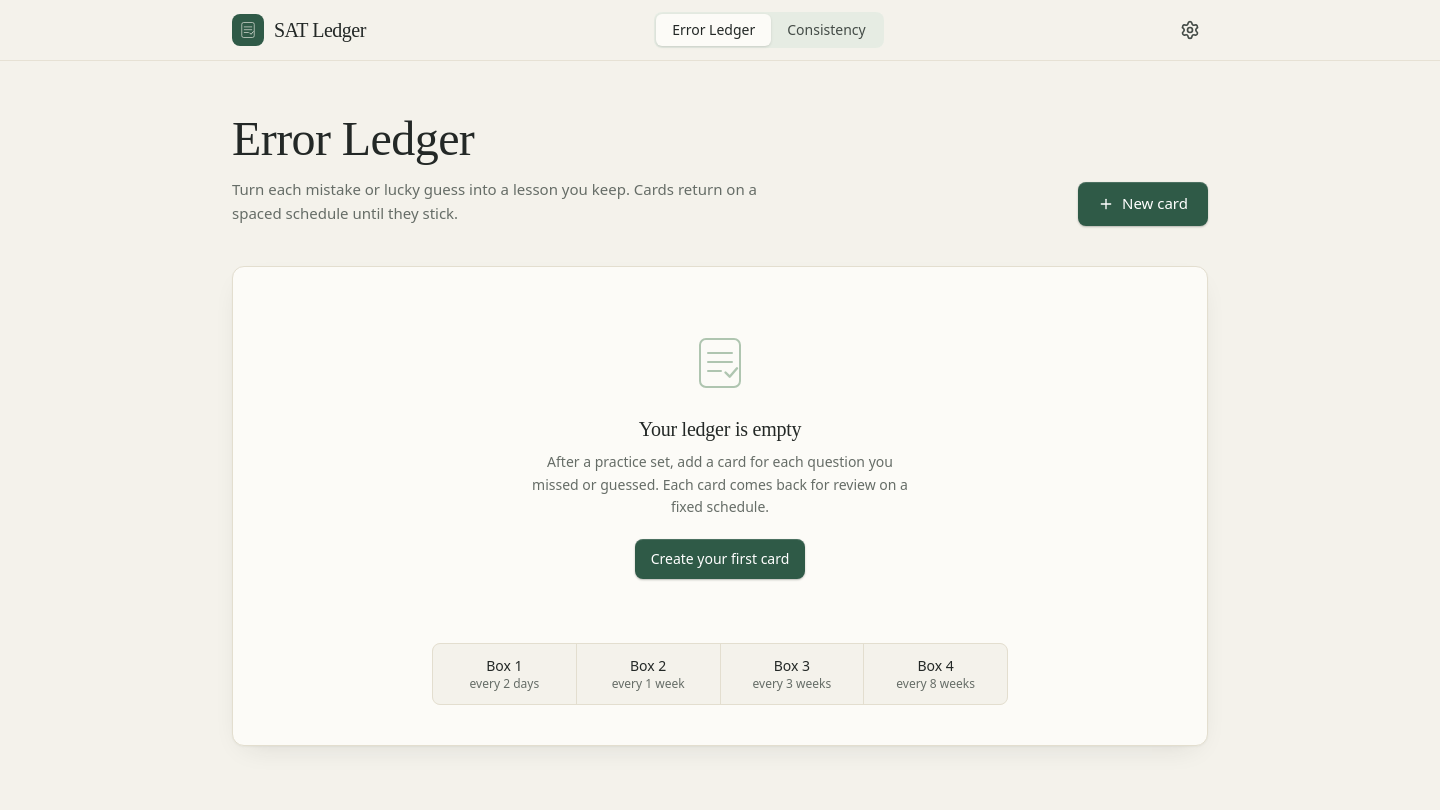
Test: Consistency › computes a full week from saved logs and reads it back kindly
Click the tab "Consistency": (826, 30) 771,14 -> 882,46
(page scrolled)
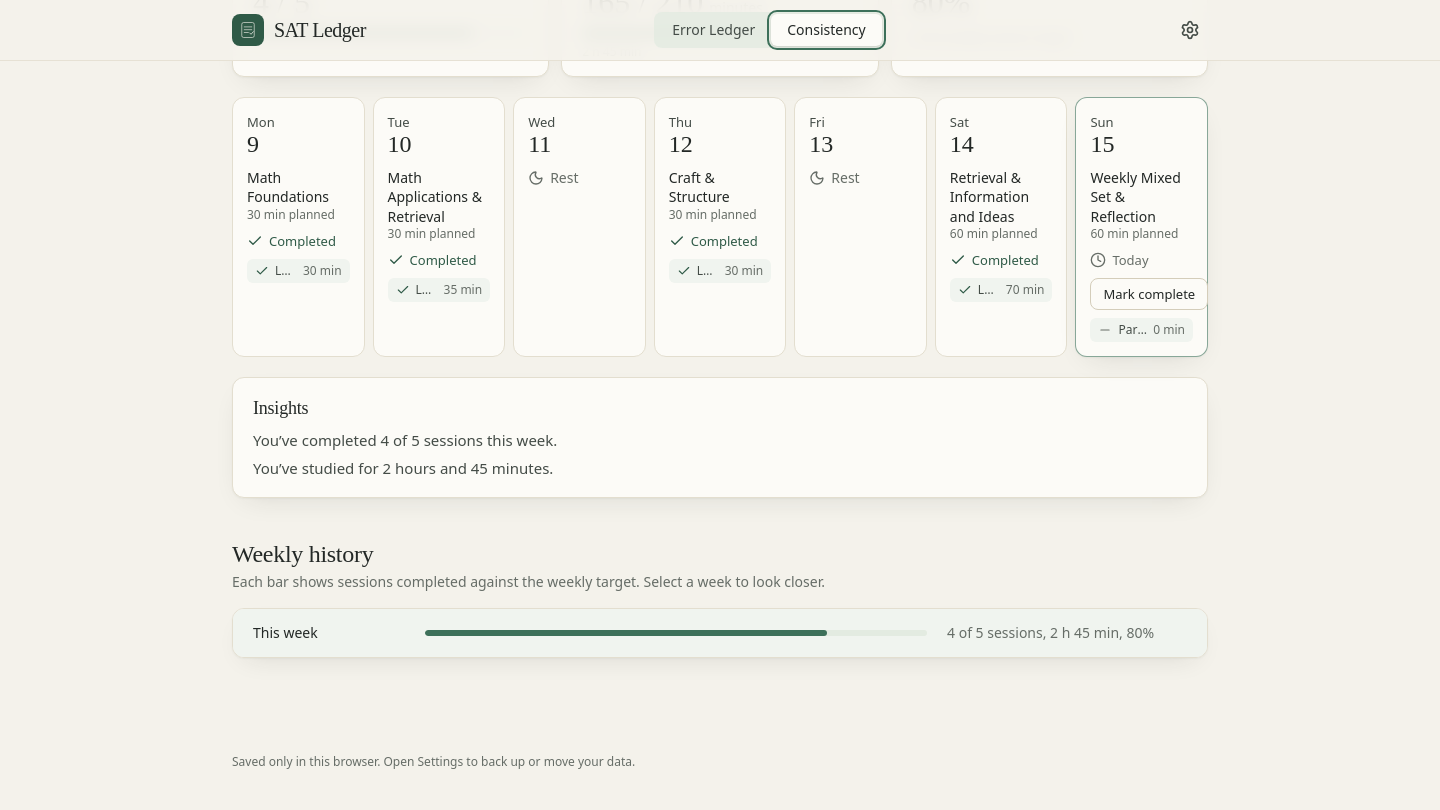
Result: the list item "You’ve completed 4 of 5 sessions this week." is shown at 253,430 -> 557,450
Result: the list item "You’ve studied for 2 hours and 45 minutes." is shown at 253,458 -> 553,478
Result: the button "This week 4 of 5 sessions, 2 h 45 min, 80%" is shown at 233,609 -> 1207,657
